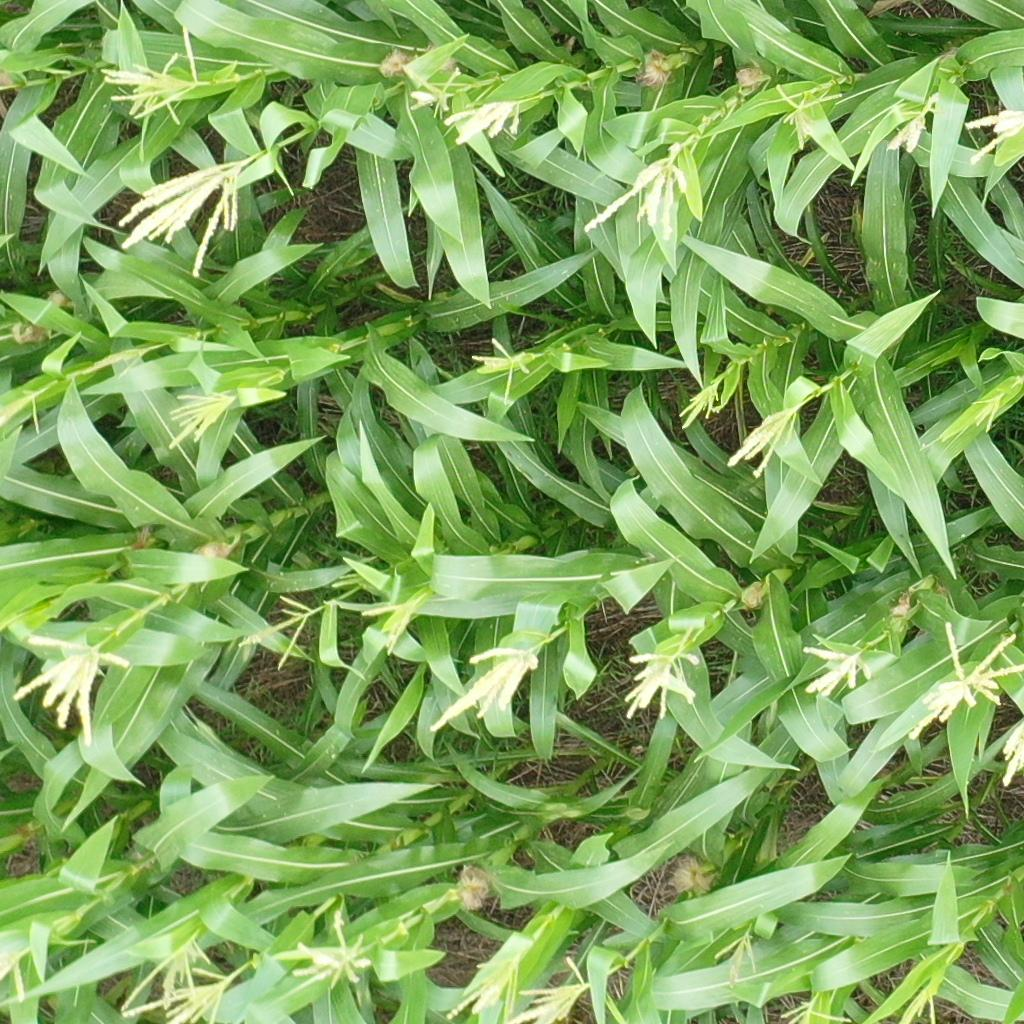Tassel: (118, 160, 248, 280), (98, 23, 206, 160), (905, 619, 1024, 739), (13, 632, 132, 744), (430, 643, 543, 736), (578, 144, 686, 239), (121, 966, 241, 1024), (623, 644, 705, 724), (123, 938, 210, 1013), (289, 910, 370, 990), (240, 594, 317, 670), (508, 956, 592, 1024), (727, 406, 802, 480), (447, 954, 522, 1020), (773, 82, 843, 150), (467, 337, 535, 407), (167, 389, 236, 449), (799, 643, 876, 696), (443, 101, 528, 146), (958, 106, 1024, 163), (887, 91, 943, 156), (364, 599, 422, 656), (713, 930, 760, 990), (409, 68, 459, 121), (80, 345, 151, 378), (776, 994, 854, 1024), (677, 382, 724, 428), (895, 981, 939, 1024), (1, 943, 29, 1001), (1001, 720, 1023, 791), (969, 392, 1003, 434), (332, 570, 367, 590)
